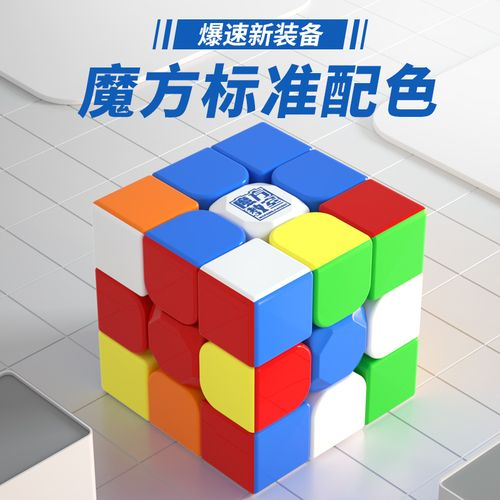cube: (87, 121, 438, 495)
